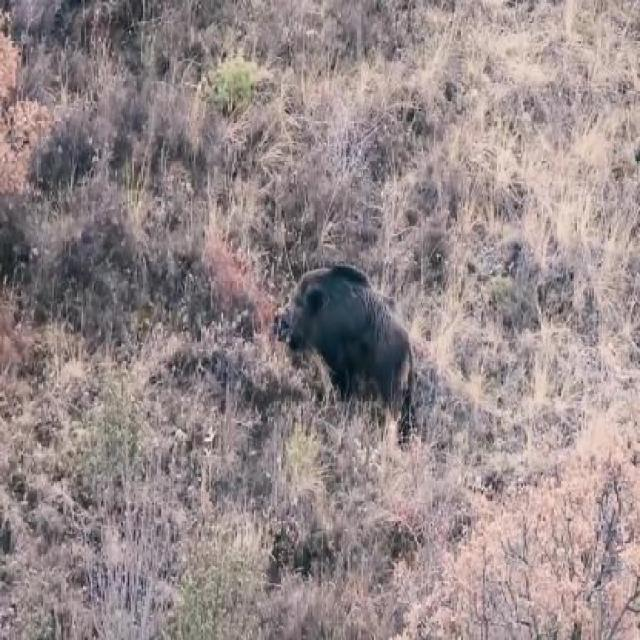pig: (276, 220, 426, 421)
